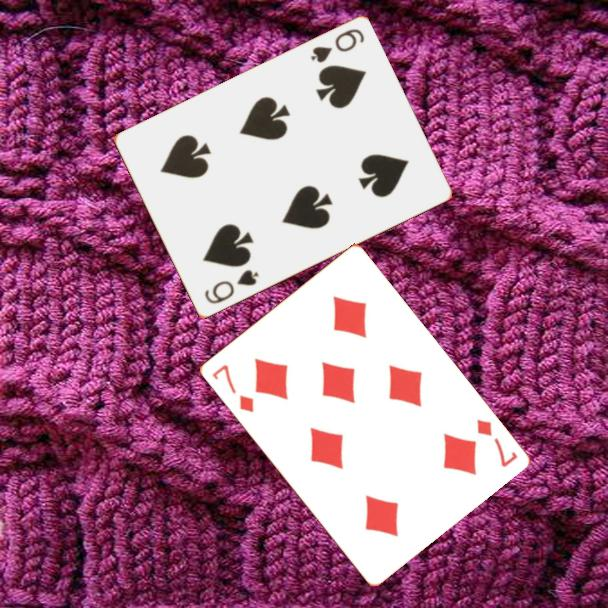d07: (208, 361, 256, 415), (472, 416, 520, 470)
s06: (201, 266, 262, 307), (307, 25, 367, 66)
